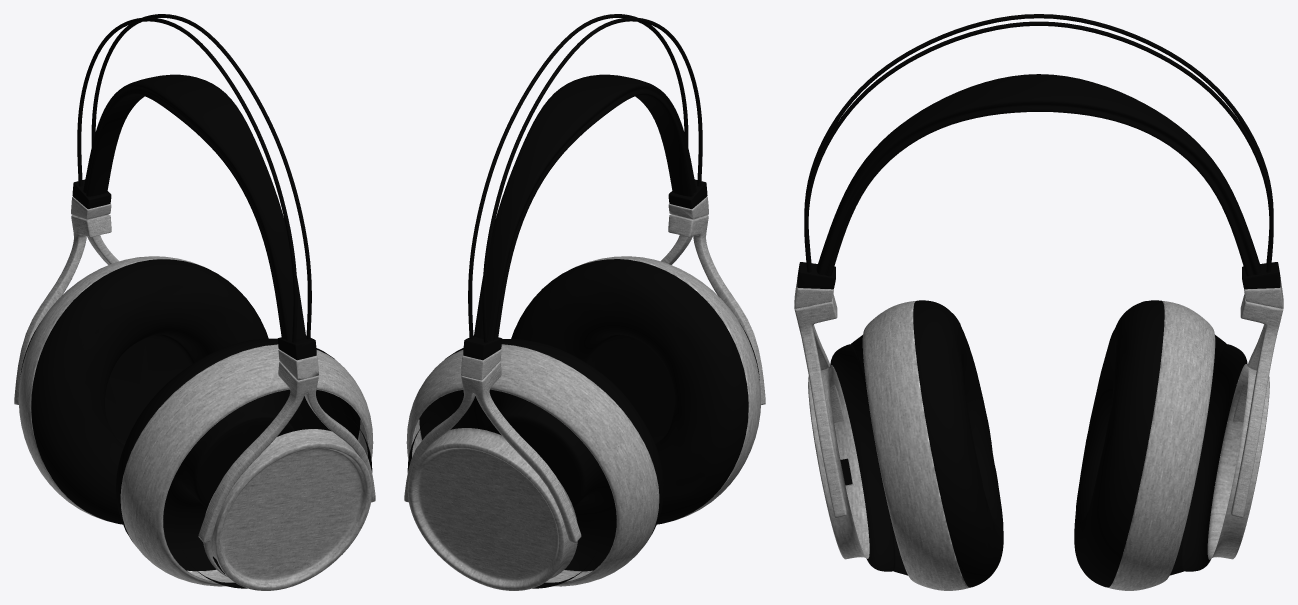
File: headphone.glb
3 renders of one model, left to right at view 1: azimuth 30°, elevation 25°; view 2: azimuth 150°, elevation 25°; view 3: azimuth 270°, elevation 25°, orthographic. The views are drawn at different scales.
Visible parts, largest first — view 1: Object_10, Object_5, Object_6; view 2: Object_10, Object_5, Object_6; view 3: Object_10, Object_5, Object_6.
Boxes of the visible parts, x1,y1,x2,y2 form: Object_10: [20, 74, 372, 588]; Object_5: [14, 197, 375, 590]; Object_6: [77, 14, 311, 573]; Object_10: [407, 74, 759, 588]; Object_5: [404, 197, 765, 590]; Object_6: [468, 14, 702, 342]; Object_10: [797, 74, 1280, 587]; Object_5: [794, 280, 1283, 590]; Object_6: [804, 14, 1273, 485].
Size of the model in its own units: 0.137 by 0.2831 by 0.2248.
3 materials, 1 textured.
